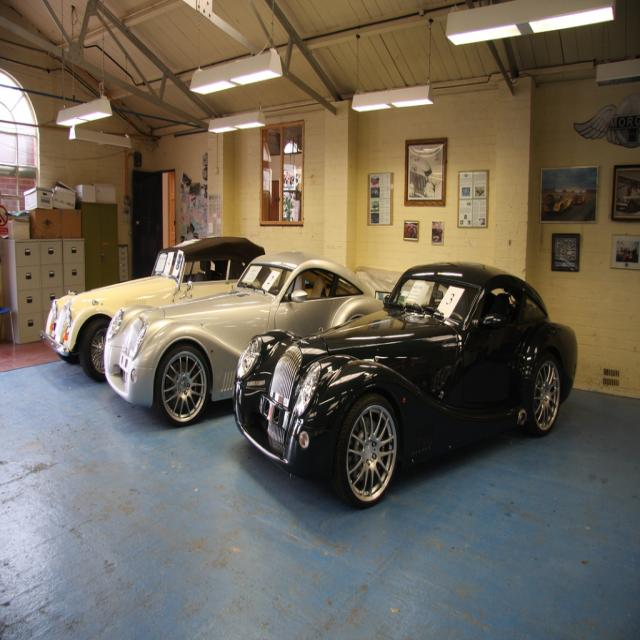other: (233, 260, 578, 508), (103, 250, 383, 426), (38, 236, 270, 379), (408, 146, 441, 197), (545, 193, 573, 216), (617, 195, 639, 212), (619, 249, 637, 261), (406, 222, 416, 238), (574, 193, 585, 206), (283, 170, 293, 183), (432, 222, 442, 234), (371, 215, 378, 223), (373, 200, 378, 208), (372, 190, 378, 196), (434, 235, 441, 240), (372, 178, 378, 183)
